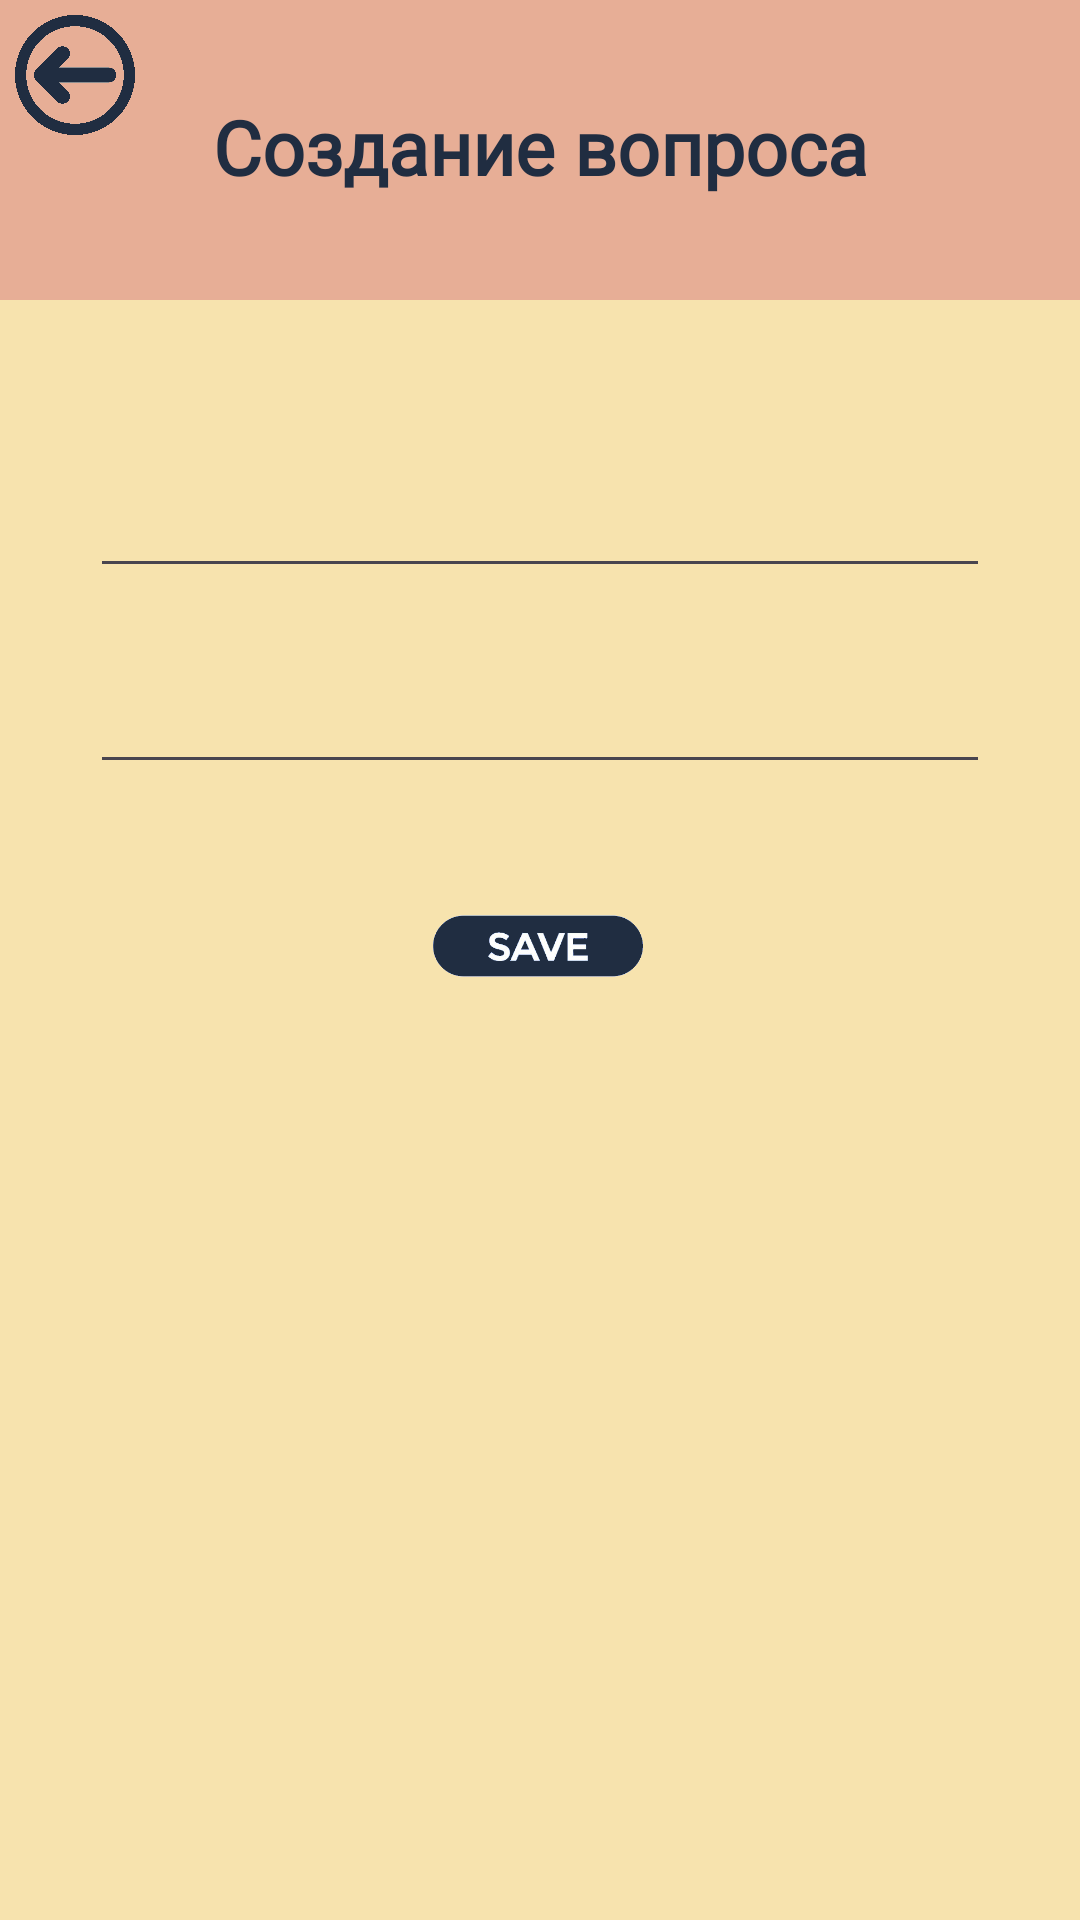

Icons on this 1080 × 1920 Android screen, each with the point to tap as (x=x, y=y):
backbutton: (x=75, y=75)
